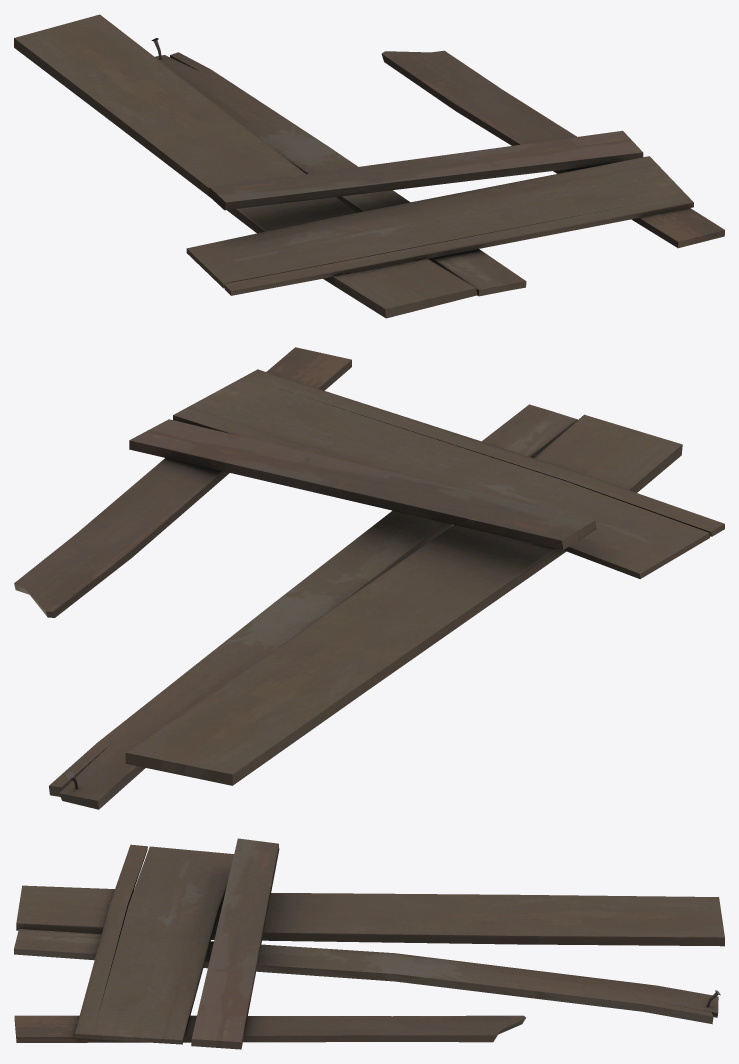
Rendered from props_coalmines_wood_debris5.glb.
3 renders of one model, top to bottom at view 1: azimuth 30°, elevation 25°; view 2: azimuth 150°, elevation 25°; view 3: azimuth 270°, elevation 25°, orthographic. The views are drawn at different scales.
Visible parts, largest first — view 1: models/props_coalmines/wood_debris5; view 2: models/props_coalmines/wood_debris5; view 3: models/props_coalmines/wood_debris5.
Part boxes in pixels (bbox=[...]): models/props_coalmines/wood_debris5: bbox=[14, 14, 724, 318]; models/props_coalmines/wood_debris5: bbox=[14, 347, 724, 809]; models/props_coalmines/wood_debris5: bbox=[14, 838, 724, 1049].
Size of the model in its own units: 113 by 23.77 by 168.
Materials: 1 (1 with a texture image).
